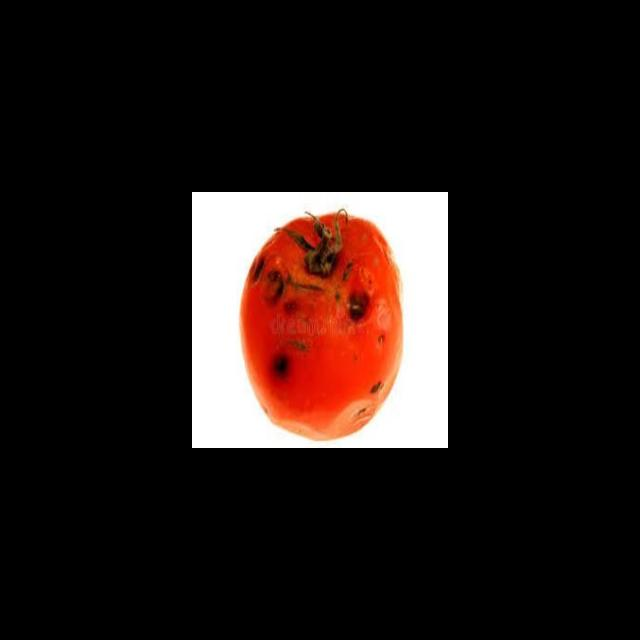tomato: (234, 207, 411, 443)
